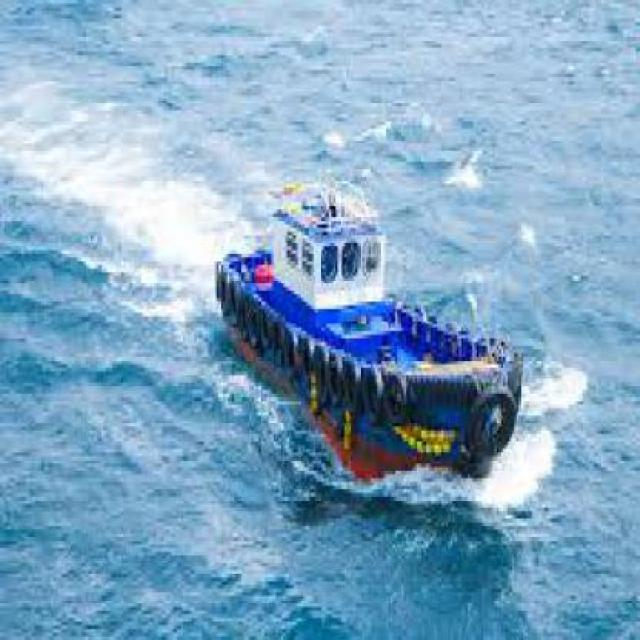fish-b: (202, 156, 551, 520)
